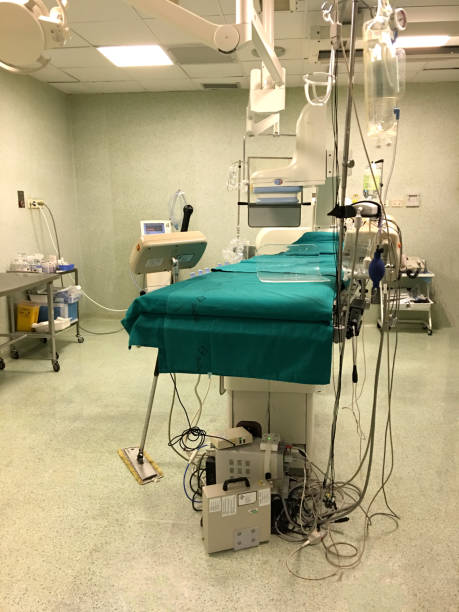iv_pole: (320, 1, 386, 326)
operating_bed: (121, 231, 368, 476)
surgical_light: (1, 1, 82, 78)
utility_cart: (9, 266, 84, 361), (1, 271, 60, 373), (375, 262, 435, 336)
